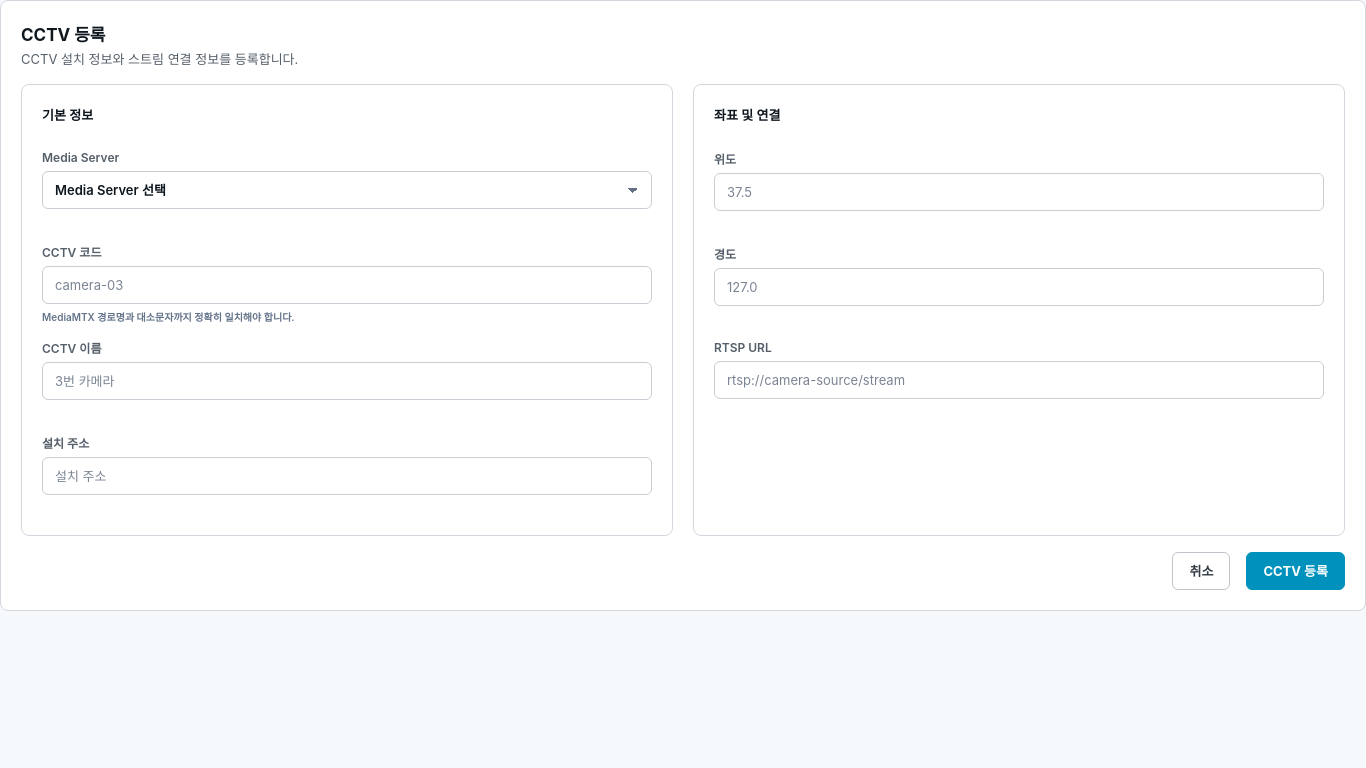
Test case: CameraFormView › validates required fields before registration
The image size is (1366, 768).
Click the button "CCTV 등록": (1296, 570) [1246, 552, 1345, 590]
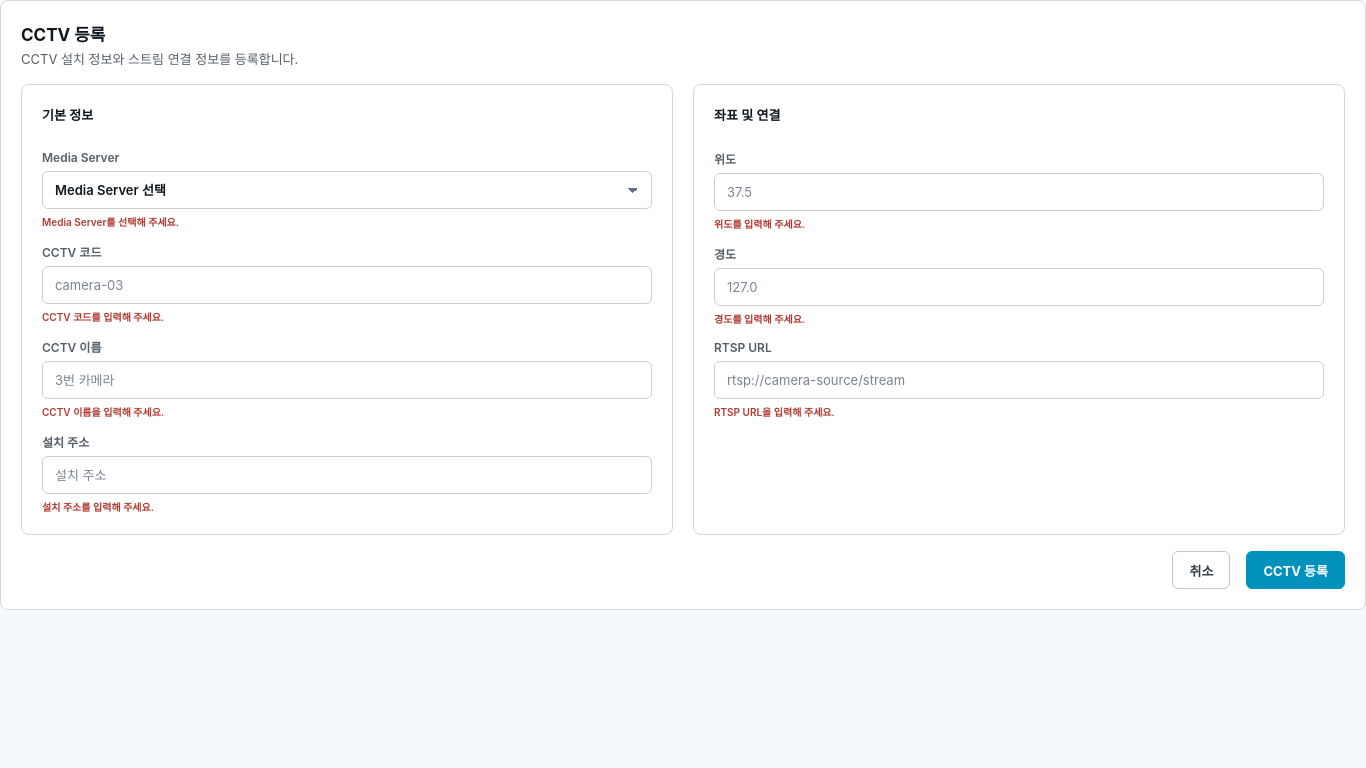
Expected: the text "Media Server를 선택해 주세요." is shown, [42, 216, 179, 228]
Expected: the text "CCTV 코드를 입력해 주세요." is shown, [42, 311, 164, 323]
Expected: the text "CCTV 이름을 입력해 주세요." is shown, [42, 406, 164, 418]
